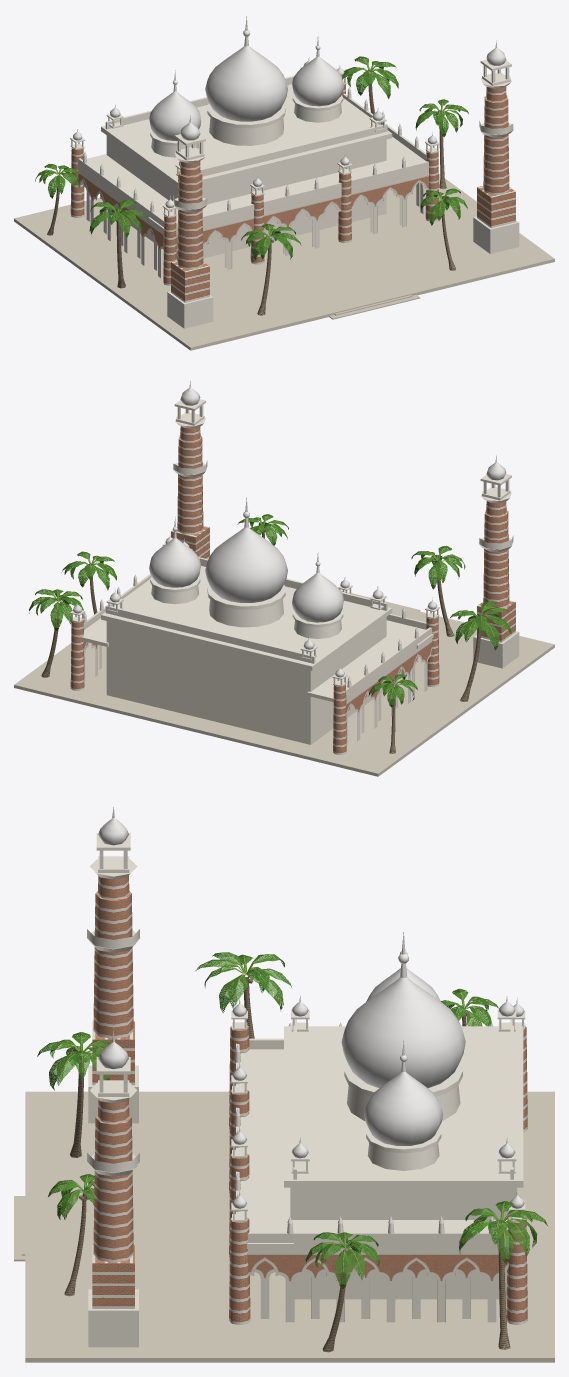
File: masjid-jamek.glb
3 views of the same model, one above another, from view 1: azimuth 30°, elevation 25°; view 2: azimuth 150°, elevation 25°; view 3: azimuth 270°, elevation 25° (orthographic). The views are drawn at different scales.
Visible parts, largest first — view 1: jamek_pave, jamek_white, jamek_stripe, jamek_dome, jamek_arcade, palm_frond, palm_trunk; view 2: jamek_white, jamek_pave, jamek_dome, jamek_stripe, palm_frond, jamek_arcade, palm_trunk; view 3: jamek_pave, jamek_white, jamek_stripe, jamek_dome, palm_frond, jamek_arcade, palm_trunk.
Boxes of the visible parts, x1,y1,x2,y2 form: jamek_pave: [14, 174, 554, 350]; jamek_white: [70, 59, 519, 328]; jamek_stripe: [70, 84, 515, 302]; jamek_dome: [73, 40, 506, 208]; jamek_arcade: [78, 168, 428, 277]; palm_frond: [35, 56, 468, 259]; palm_trunk: [47, 73, 455, 315]; jamek_white: [70, 399, 519, 744]; jamek_pave: [14, 590, 554, 776]; jamek_dome: [73, 381, 506, 680]; jamek_stripe: [70, 426, 515, 754]; palm_frond: [29, 514, 511, 707]; jamek_arcade: [84, 639, 431, 744]; palm_trunk: [41, 528, 483, 753]; jamek_pave: [14, 1091, 554, 1362]; jamek_white: [86, 833, 525, 1347]; jamek_stripe: [92, 875, 527, 1324]; jamek_dome: [98, 807, 524, 1223]; palm_frond: [37, 952, 547, 1289]; jamek_arcade: [248, 1248, 508, 1322]; palm_trunk: [64, 977, 510, 1352].
Bounding box in the file's own units: 56.53 × 27.3 × 42.9.
8 materials, 4 textured.
